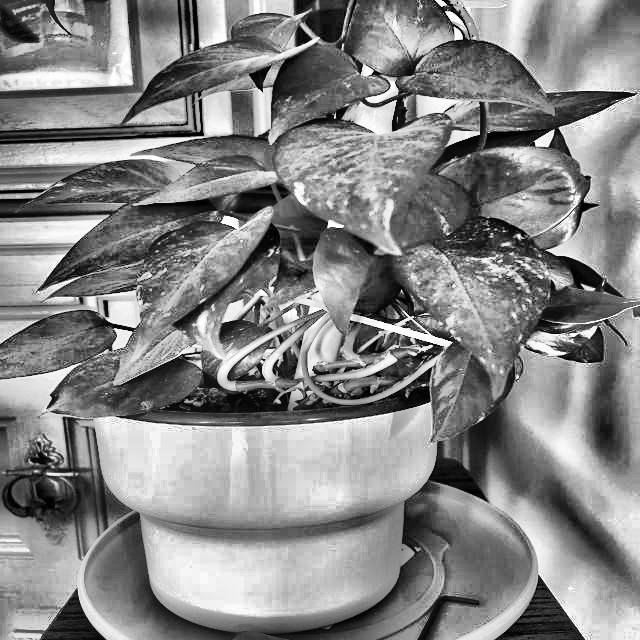plants: (34, 38, 609, 454)
